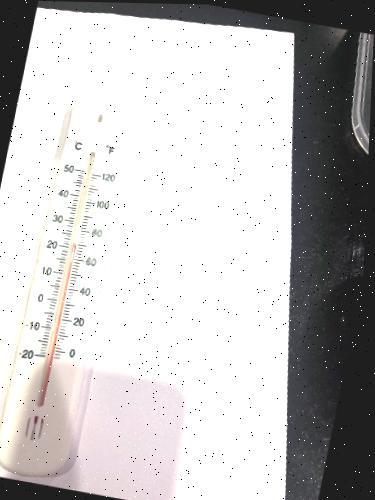thermo: (0, 88, 156, 478)
